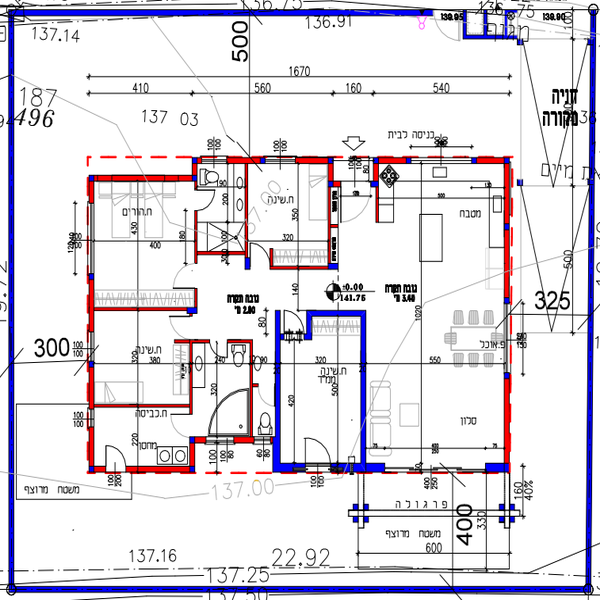door: (334, 180, 373, 224), (305, 435, 336, 472), (280, 304, 311, 341), (167, 315, 204, 343), (99, 441, 129, 475), (172, 261, 202, 293), (192, 187, 218, 216)
room: (372, 162, 508, 472), (86, 173, 198, 314), (277, 309, 369, 473), (87, 304, 194, 407), (246, 158, 330, 272), (88, 404, 192, 474), (189, 336, 251, 447), (193, 156, 248, 254)
wall: (501, 159, 515, 298), (361, 310, 371, 474), (273, 308, 280, 472), (504, 376, 514, 470), (308, 307, 370, 319), (91, 403, 190, 410), (91, 177, 197, 183), (95, 307, 194, 311)
window: (85, 204, 97, 276), (407, 154, 473, 164), (262, 155, 296, 164), (87, 334, 97, 364), (202, 154, 227, 164)
